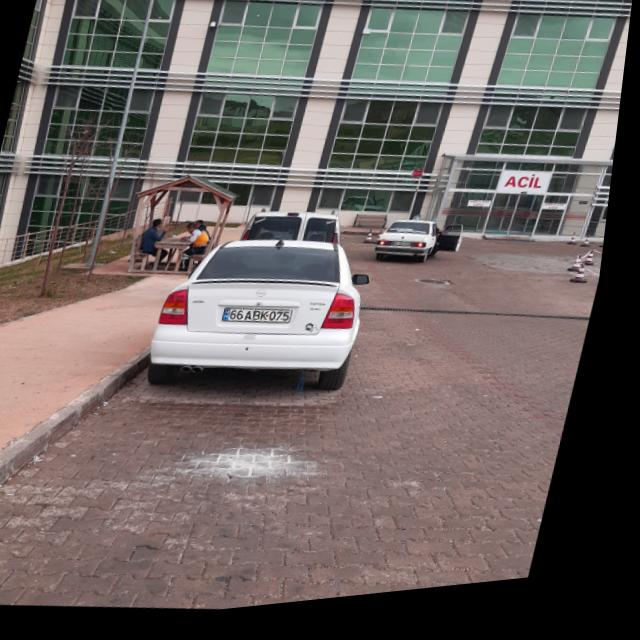license_plate: (230, 308, 301, 334)
